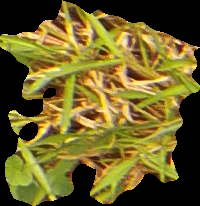grass: (1, 1, 199, 205)
